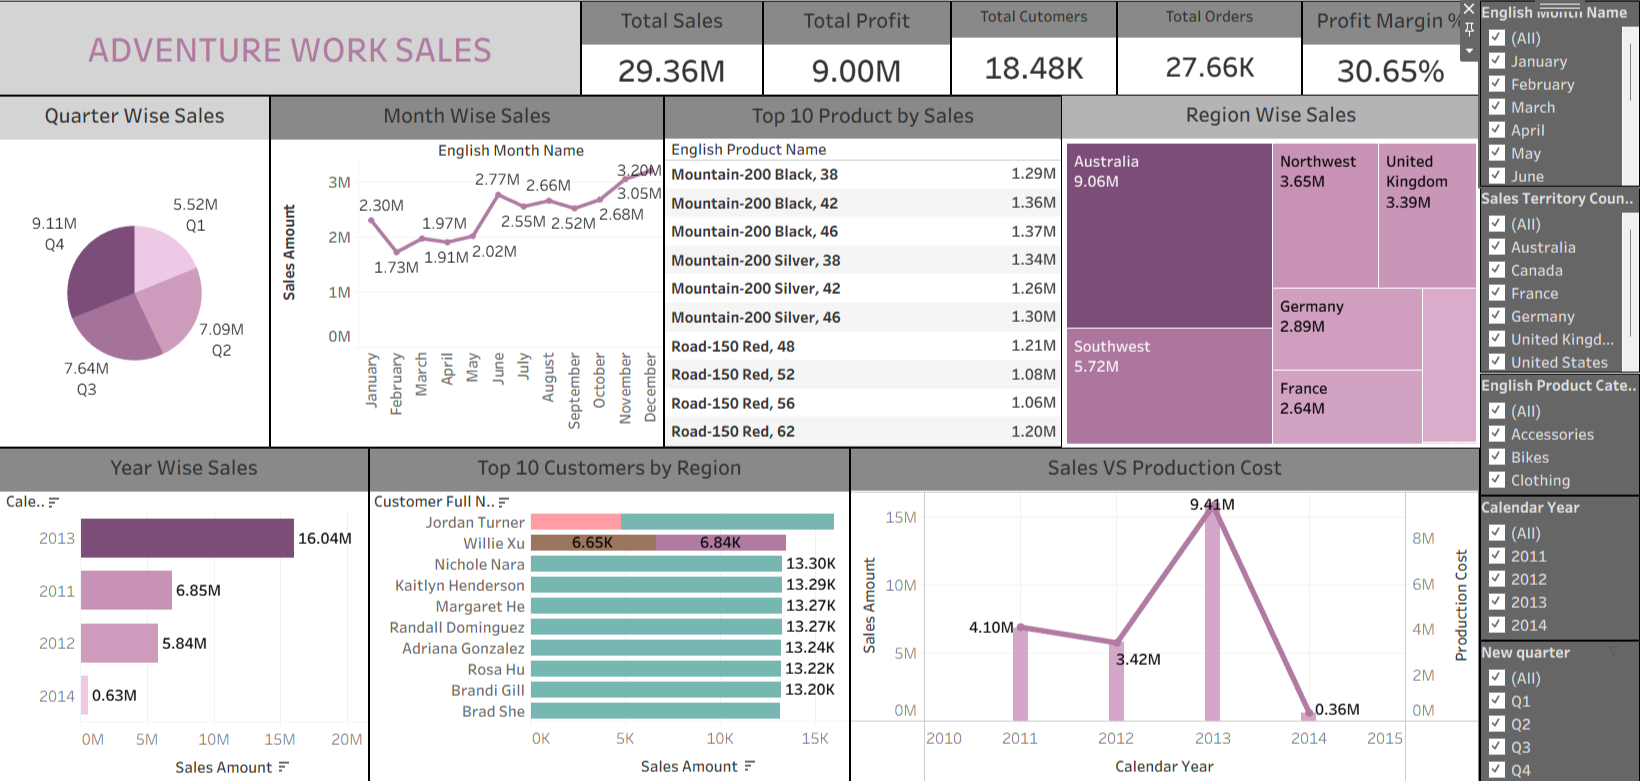

Layout of this report page (visuals, bound fields, positions):
{"tool":"tableau","page":{"name":"Dashboard 1","canvas":[1000,1000],"units":"permille","ordinal":0},"visuals":[{"type":"title","box":[4.8,10,351.2,118.6]},{"type":"worksheet","title":"Total Sales","mark":"Text","box":[356,10,109.8,118.6]},{"type":"worksheet","title":"Total Profit","mark":"Automatic","box":[465.8,10,113.5,118.6]},{"type":"worksheet","title":"Total Cutomers","mark":"Automatic","box":[579.4,10,100.2,118.6]},{"type":"worksheet","title":"Total Orders","mark":"Automatic","box":[679.5,10,111.7,118.6]},{"type":"worksheet","title":"Profit Margin %","mark":"Automatic","box":[791.2,10,107.4,118.6]},{"type":"filter","title":"Region Wise Sales","param":"[federated.1mtpdz301hfe261foi4ln1mnqs0e].[none:EnglishMonthName:nk]","box":[898.6,10,96.6,232.8]},{"type":"worksheet","title":"Quarter Wise Sales","mark":"Pie","box":[4.8,128.6,163.6,439.7]},{"type":"worksheet","title":"Month Wise Sales","mark":"Line","rows":["SalesAmount"],"cols":["EnglishMonthName"],"box":[168.4,128.6,237.8,439.7]},{"type":"worksheet","title":"Top 10 Product by Sales","mark":"Automatic","rows":["EnglishProductName"],"box":[406.2,128.6,240.2,439.7]},{"type":"worksheet","title":"Region Wise Sales","mark":"Automatic","box":[646.4,128.6,252.3,439.7]},{"type":"filter","title":"Region Wise Sales","param":"[federated.1mtpdz301hfe261foi4ln1mnqs0e].[none:SalesTerritoryCountry:nk]","box":[898.6,242.8,96.6,232.8]},{"type":"filter","title":"Region Wise Sales","param":"[federated.1mtpdz301hfe261foi4ln1mnqs0e].[none:EnglishProductCategoryName:nk]","box":[898.6,475.7,96.6,152.3]},{"type":"worksheet","title":"Year Wise Sales","mark":"Automatic","rows":["CalendarYear"],"cols":["SalesAmount"],"box":[4.8,568.3,223.1,421.7]},{"type":"worksheet","title":"Top 10 Customers by Region","mark":"Automatic","rows":["Calculation_0669617296584705"],"cols":["SalesAmount"],"box":[227.9,568.3,290.2,421.7]},{"type":"worksheet","title":"Sales VS Production Cost","mark":"Automatic","rows":["SalesAmount","Calculation_0780668109352970"],"cols":["CalendarYear"],"box":[518.1,568.3,380.5,421.7]},{"type":"filter","title":"Region Wise Sales","param":"[federated.1mtpdz301hfe261foi4ln1mnqs0e].[none:CalendarYear:ok]","box":[898.6,628,96.6,181]},{"type":"filter","title":"Region Wise Sales","param":"[federated.1mtpdz301hfe261foi4ln1mnqs0e].[none:Calculation_1281770660855809:nk]","box":[898.6,809,96.6,181]}]}

Visuals, with their boxes on the dashboard's canvas, which has no fixed pixel size, in thousandths of its width and height (x1, y1, x2, y2). These are canvas units, not pixel positions in the 1640x781 screenshot, which may show the page scaled, cropped or inside an application window:
title: detection(5, 10, 356, 129)
"Total Sales" worksheet (Text marks): detection(356, 10, 466, 129)
"Total Profit" worksheet: detection(466, 10, 579, 129)
"Total Cutomers" worksheet: detection(579, 10, 680, 129)
"Total Orders" worksheet: detection(680, 10, 791, 129)
"Profit Margin %" worksheet: detection(791, 10, 899, 129)
"Region Wise Sales" filter: detection(899, 10, 995, 243)
"Quarter Wise Sales" worksheet (Pie marks): detection(5, 129, 168, 568)
"Month Wise Sales" worksheet (Line marks): detection(168, 129, 406, 568)
"Top 10 Product by Sales" worksheet: detection(406, 129, 646, 568)
"Region Wise Sales" worksheet: detection(646, 129, 899, 568)
"Region Wise Sales" filter: detection(899, 243, 995, 476)
"Region Wise Sales" filter: detection(899, 476, 995, 628)
"Year Wise Sales" worksheet: detection(5, 568, 228, 990)
"Top 10 Customers by Region" worksheet: detection(228, 568, 518, 990)
"Sales VS Production Cost" worksheet: detection(518, 568, 899, 990)
"Region Wise Sales" filter: detection(899, 628, 995, 809)
"Region Wise Sales" filter: detection(899, 809, 995, 990)
